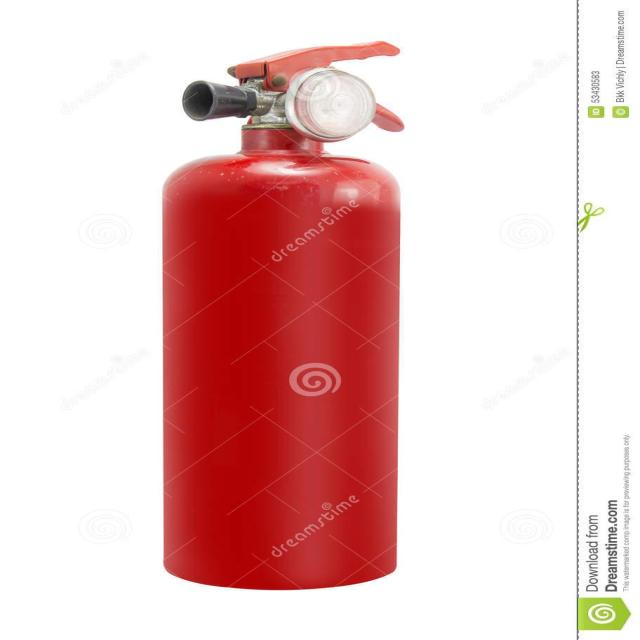fire_extinguisher: (142, 33, 420, 594)
